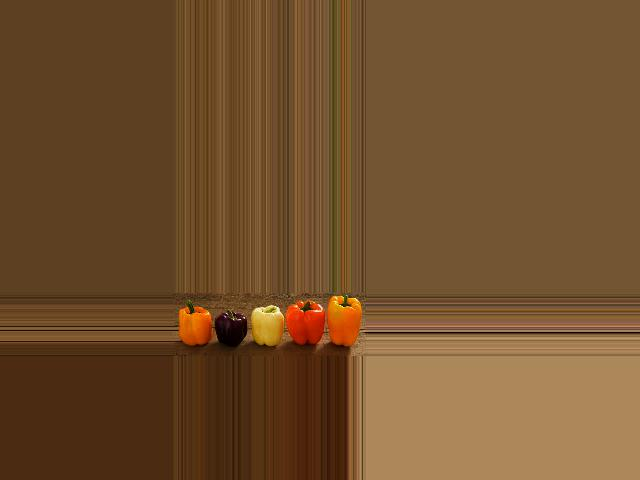bell_pepper: (175, 298, 208, 354)
